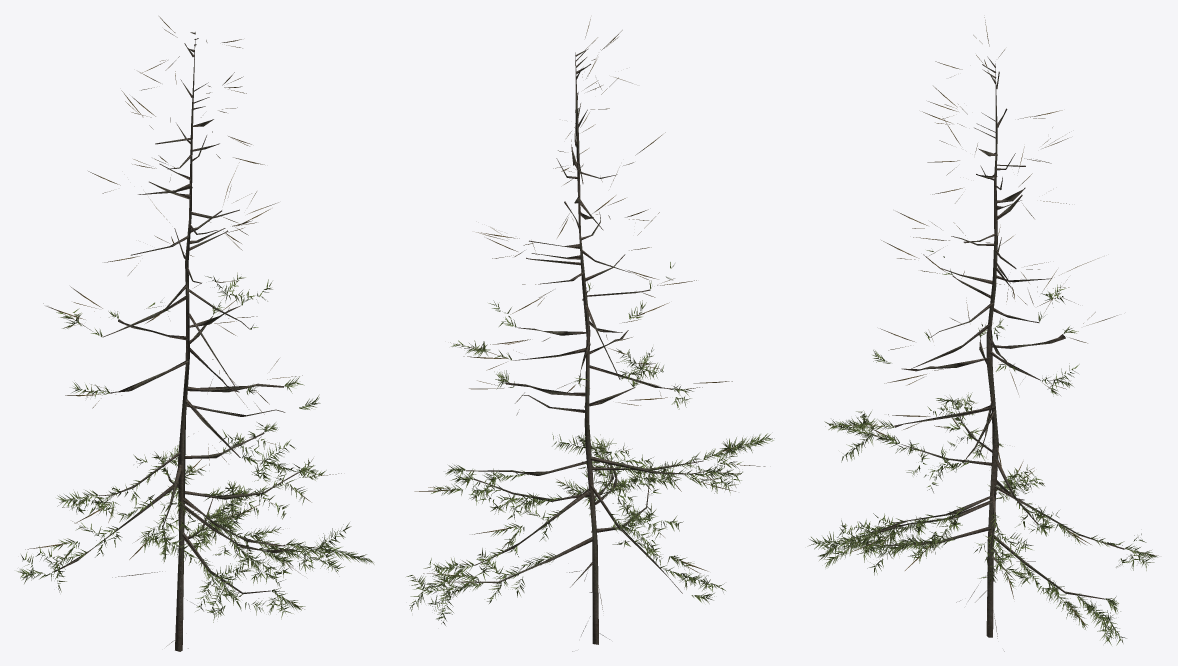
The picture shows the model from 3 angles, left to right: view 1: azimuth 30°, elevation 25°; view 2: azimuth 150°, elevation 25°; view 3: azimuth 270°, elevation 25°; orthographic projection. The views are drawn at different scales.
Parts seen in each view (by area): view 1: fir_sapling_medium_b_LOD0; view 2: fir_sapling_medium_b_LOD0; view 3: fir_sapling_medium_b_LOD0.
Boxes of the visible parts, <box> form: fir_sapling_medium_b_LOD0: <box>17,16,374,651</box>; fir_sapling_medium_b_LOD0: <box>406,19,774,651</box>; fir_sapling_medium_b_LOD0: <box>807,17,1158,651</box>.
Size of the model in its own units: 3.9 by 7.38 by 3.89.
3 materials, 3 textured.
